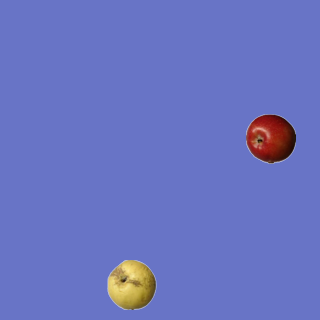Apple Braeburn: (245, 113, 295, 163)
Apple Golden 1: (106, 259, 156, 309)
